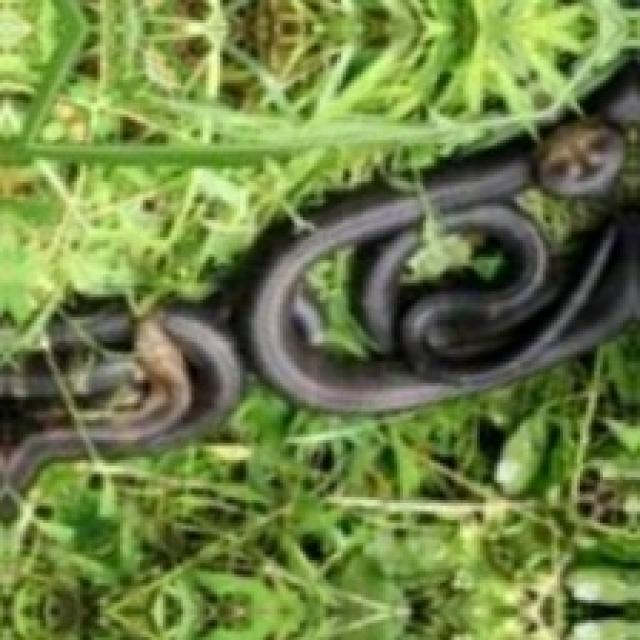king cobra: (166, 63, 637, 637), (6, 303, 263, 557), (9, 566, 254, 637)
